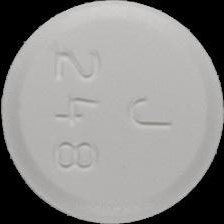33261-946: (0, 0, 224, 224)
